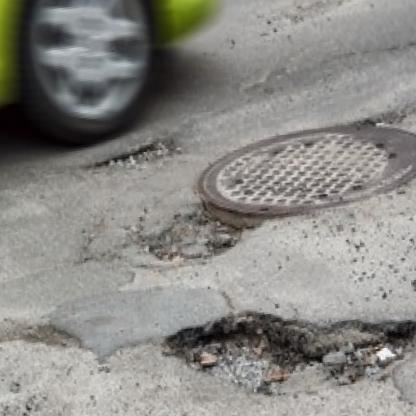pothole: (158, 304, 318, 402), (320, 312, 416, 394), (137, 200, 244, 271), (96, 135, 175, 178)
